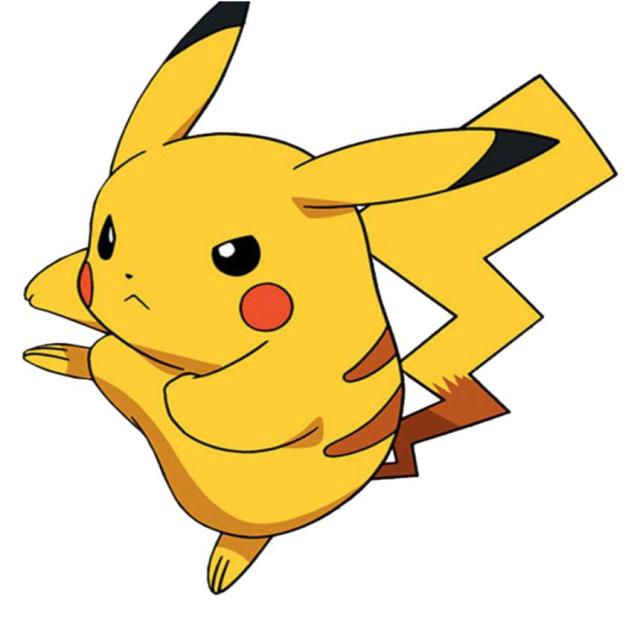pikachu: (20, 0, 616, 596)
